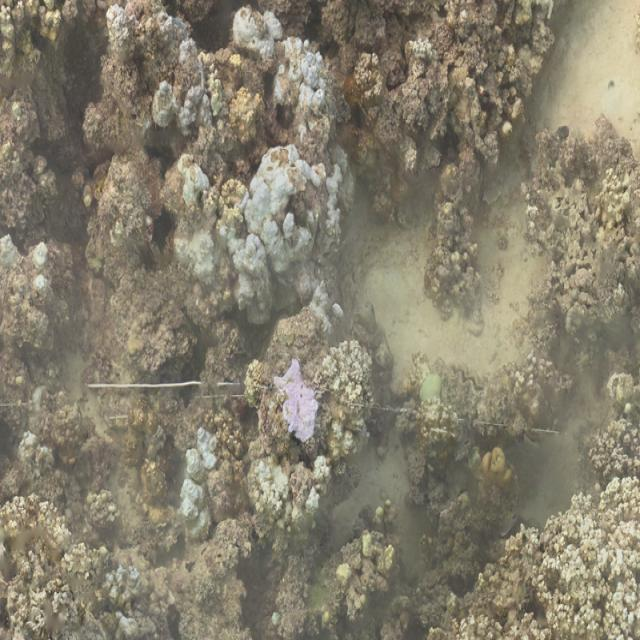Bleached Coral: (203, 15, 366, 148), (228, 159, 322, 293), (318, 322, 386, 438), (248, 455, 323, 521), (279, 342, 321, 446)
